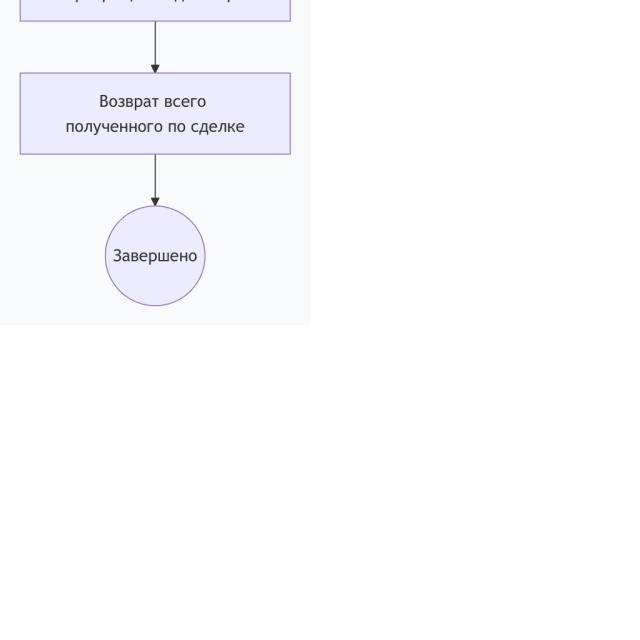arrow: (152, 155, 159, 205), (152, 22, 159, 72)
circle: (95, 196, 215, 317)
rectangle: (20, 73, 290, 154)
